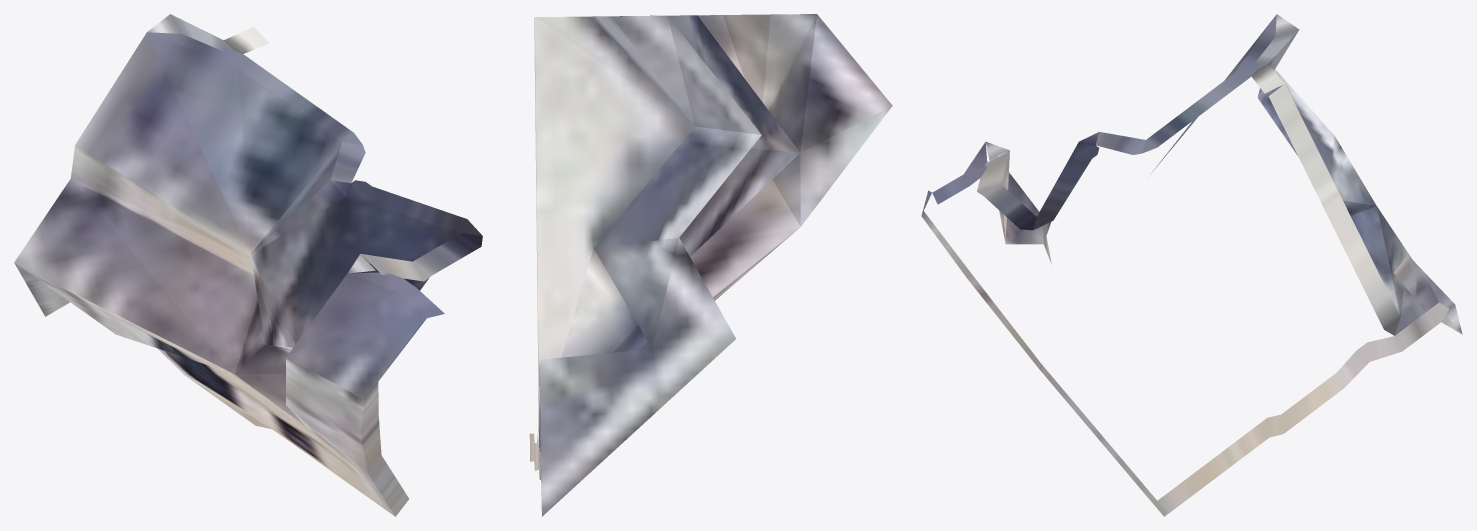
3 renders of one model, left to right at view 1: azimuth 30°, elevation 25°; view 2: azimuth 150°, elevation 25°; view 3: azimuth 270°, elevation 25°, orthographic. The views are drawn at different scales.
Bounding box in the file's own units: 6.47 × 10.07 × 11.65.
1 material, 1 textured.
